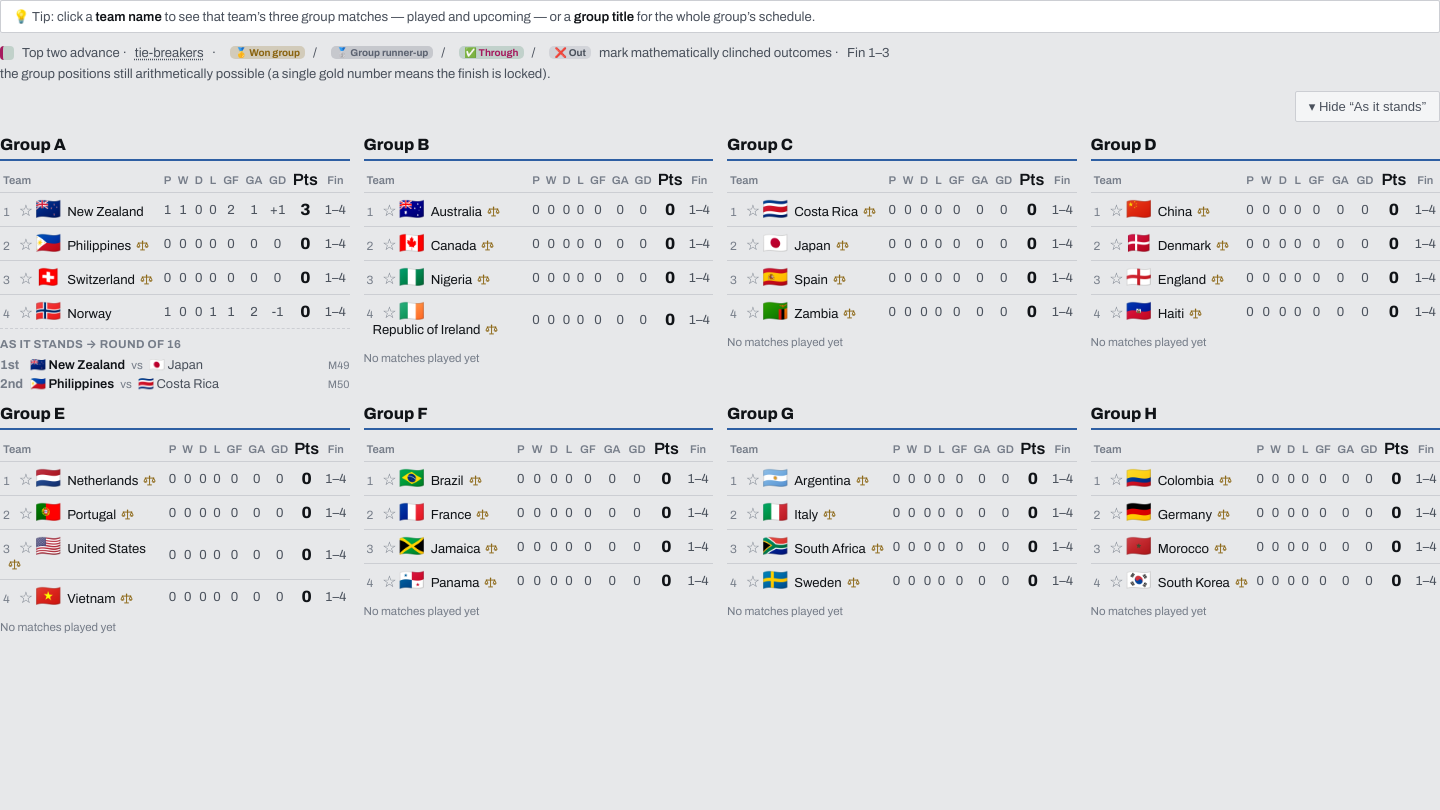
Scenario: Group games pop-up › shows only the selected team’s three matches when a team is clicked
Click the button "New Zealand": {"x": 105, "y": 212} x1=67 y1=204 x2=144 y2=220
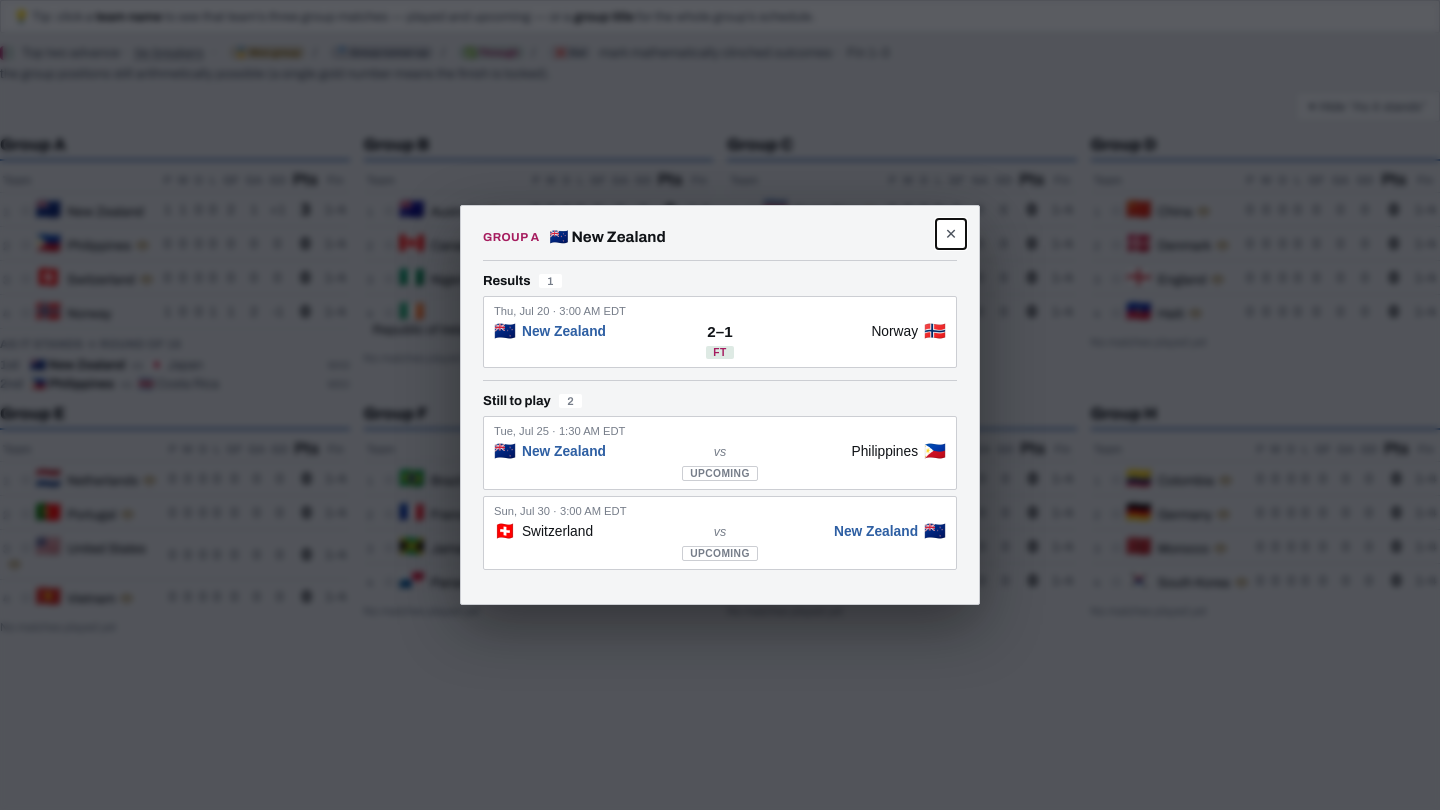
Expected: the text with class "gg-head-team" shows "New Zealand", x1=571 y1=229 x2=666 y2=245
Expected: the number of buttons with class "gg-fixture" is 3, x1=483 y1=296 x2=957 y2=368; x1=483 y1=416 x2=957 y2=490; x1=483 y1=496 x2=957 y2=570
Expected: the heading "Results 1" is shown, x1=483 y1=273 x2=562 y2=288
